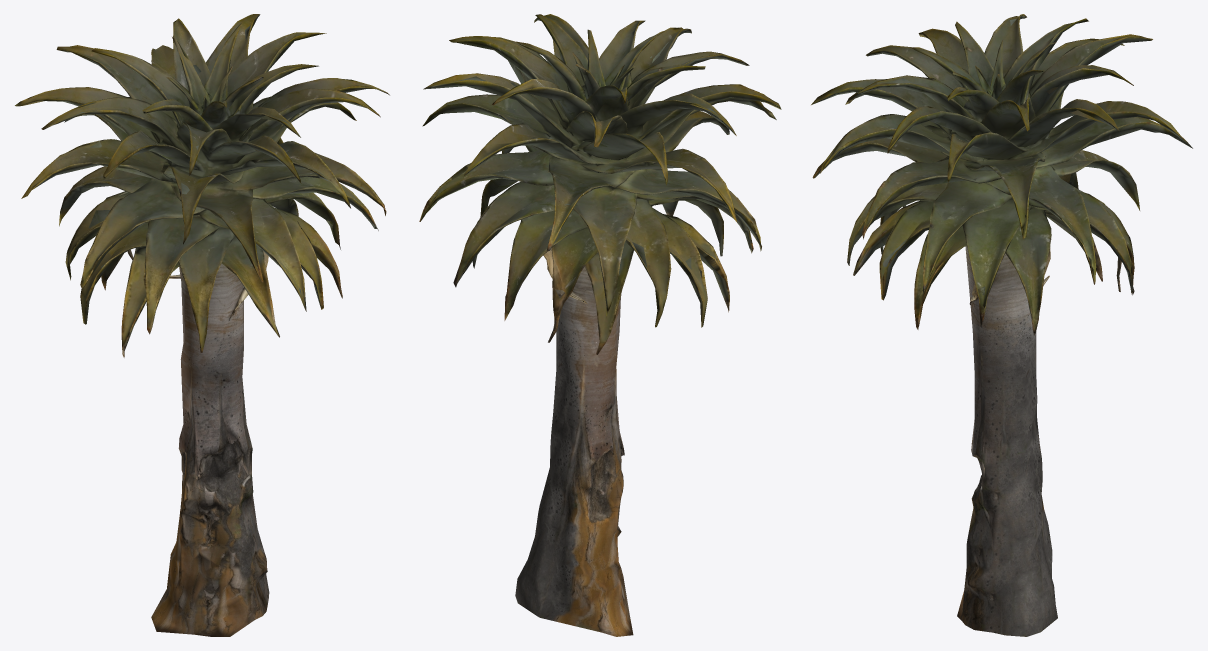
The model's file is quiver_tree_02.glb.
3 renders of one model, left to right at view 1: azimuth 30°, elevation 25°; view 2: azimuth 150°, elevation 25°; view 3: azimuth 270°, elevation 25°, orthographic.
Size of the model in its own units: 0.8652 by 1.47 by 0.8805.
1 material, 1 textured.
